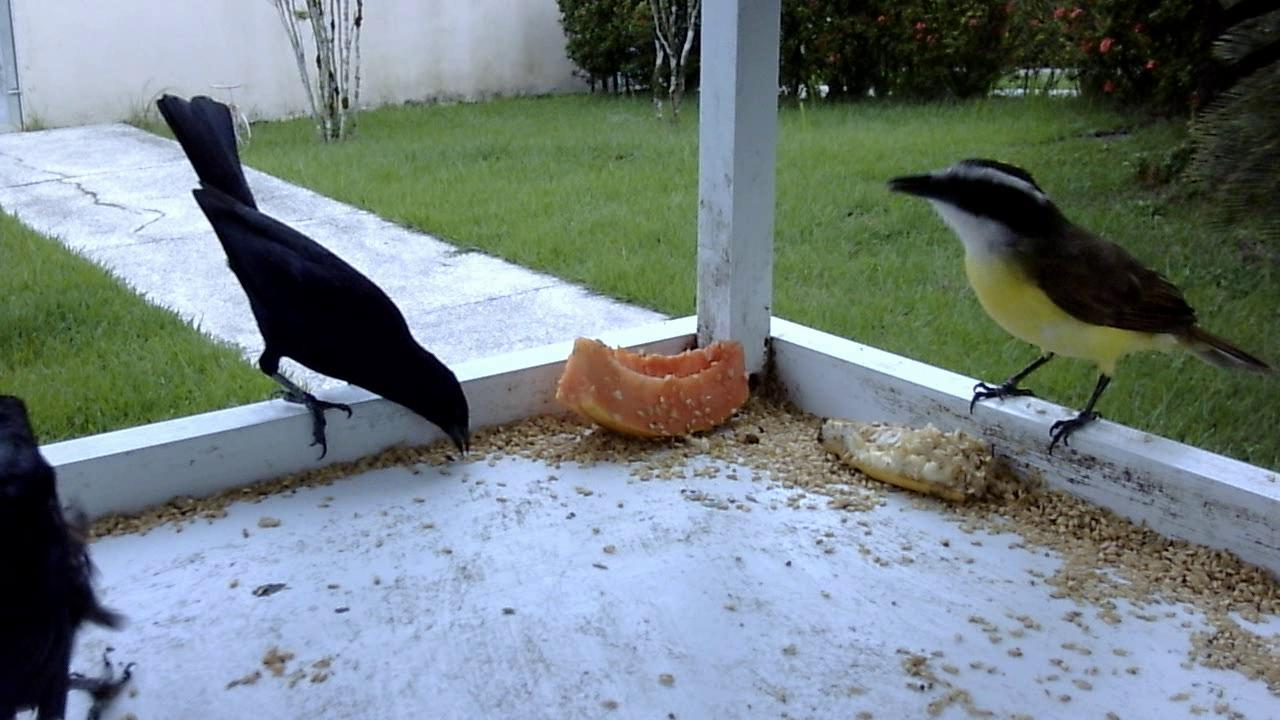bem_te_vi: (873, 141, 1276, 477)
chupim: (141, 85, 477, 483), (1, 382, 145, 720)
